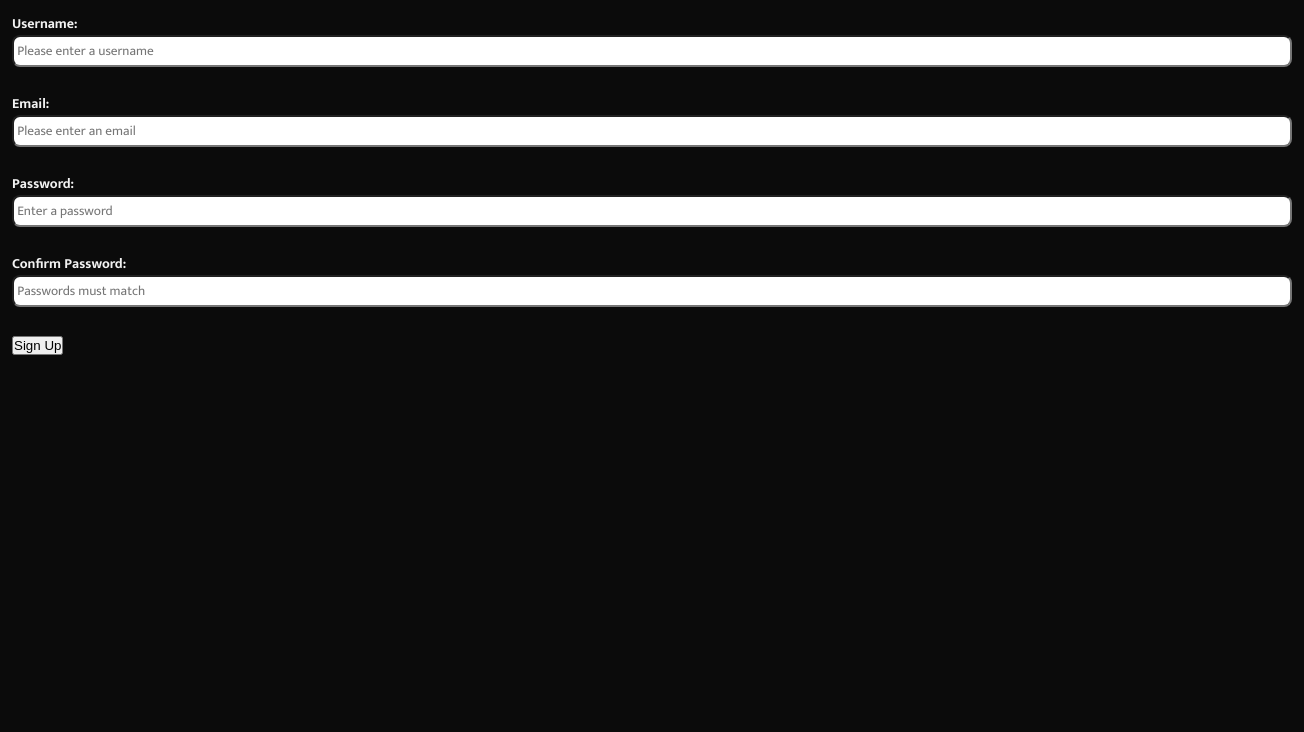
Test: Sign Up form › Displays error message on invalid email input when users click away
Expected: the text "Please enter a valid email" is not shown
Click the field labelled "Email:" at (652,131), box [12, 115, 1292, 147]
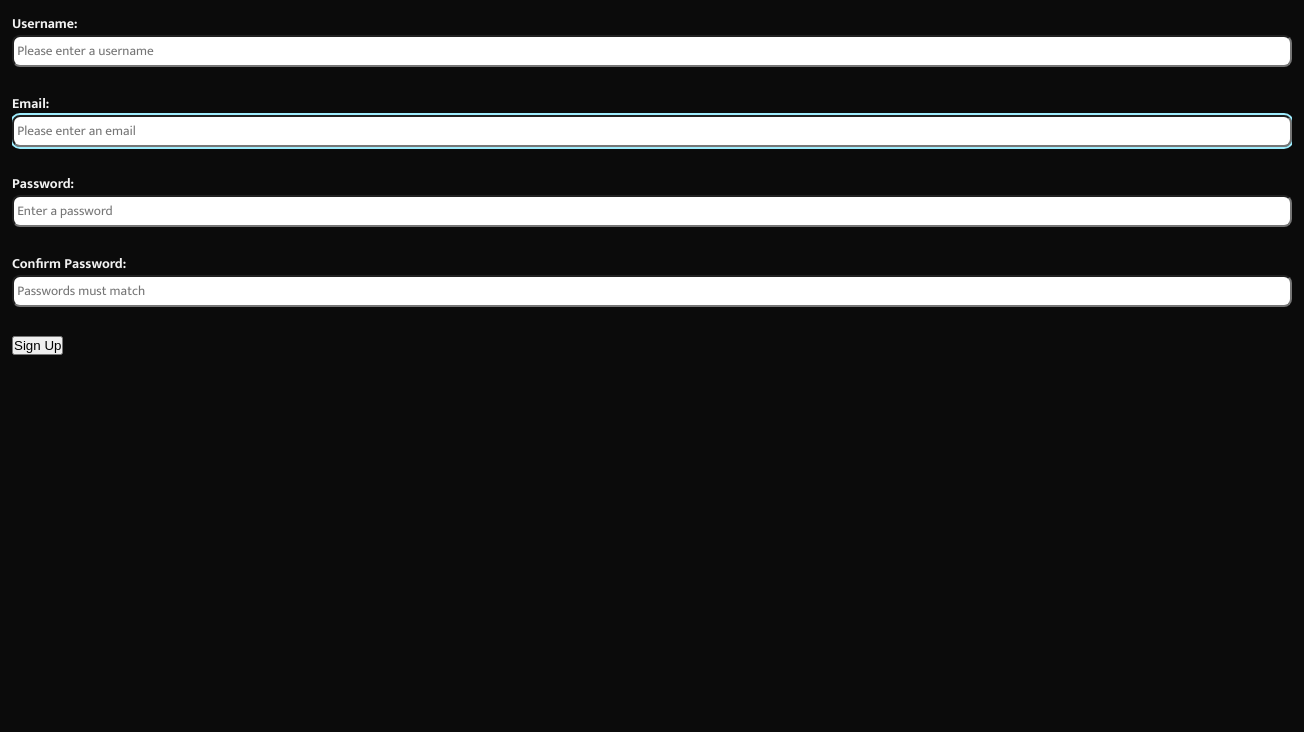
Type keys "bar"
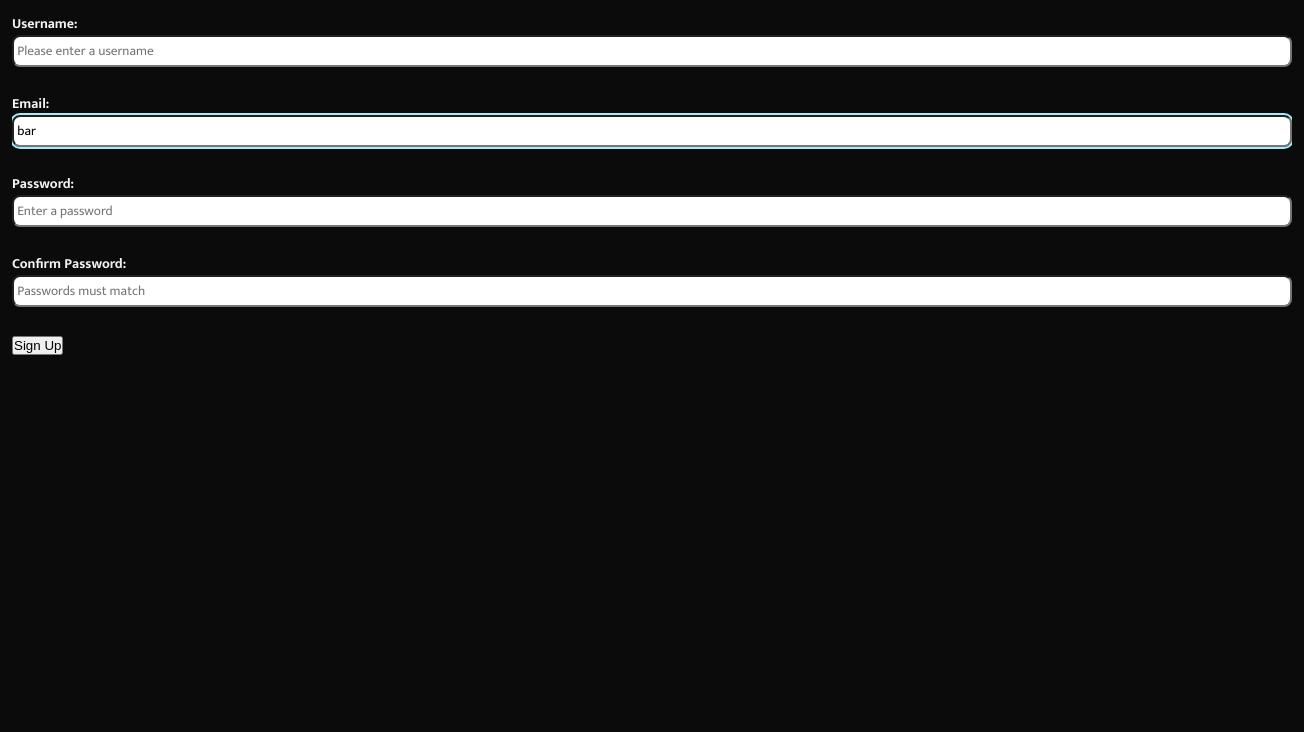
Click the element showing "Username: Email: Password: Confirm Password: Sign Up" at (652,372), box [12, 12, 1292, 731]
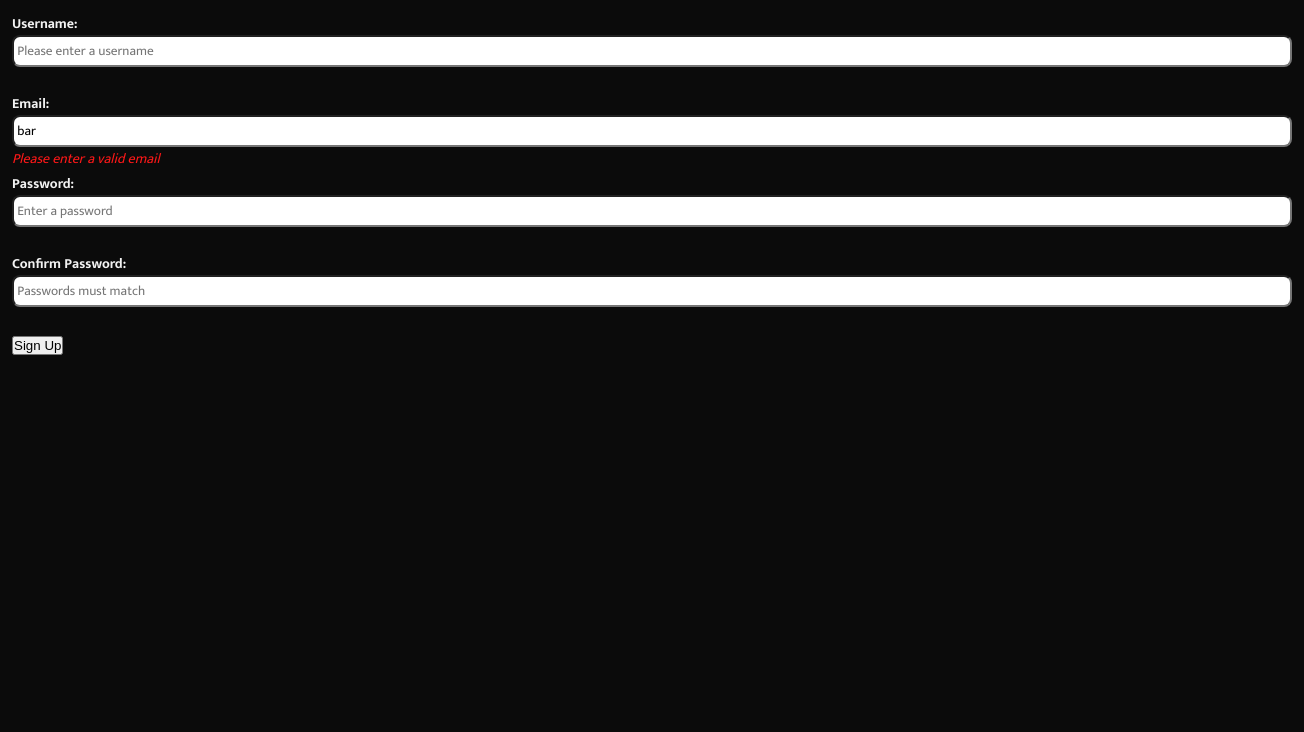
Result: the text "Please enter a valid email" is shown at [12, 147, 160, 170]
